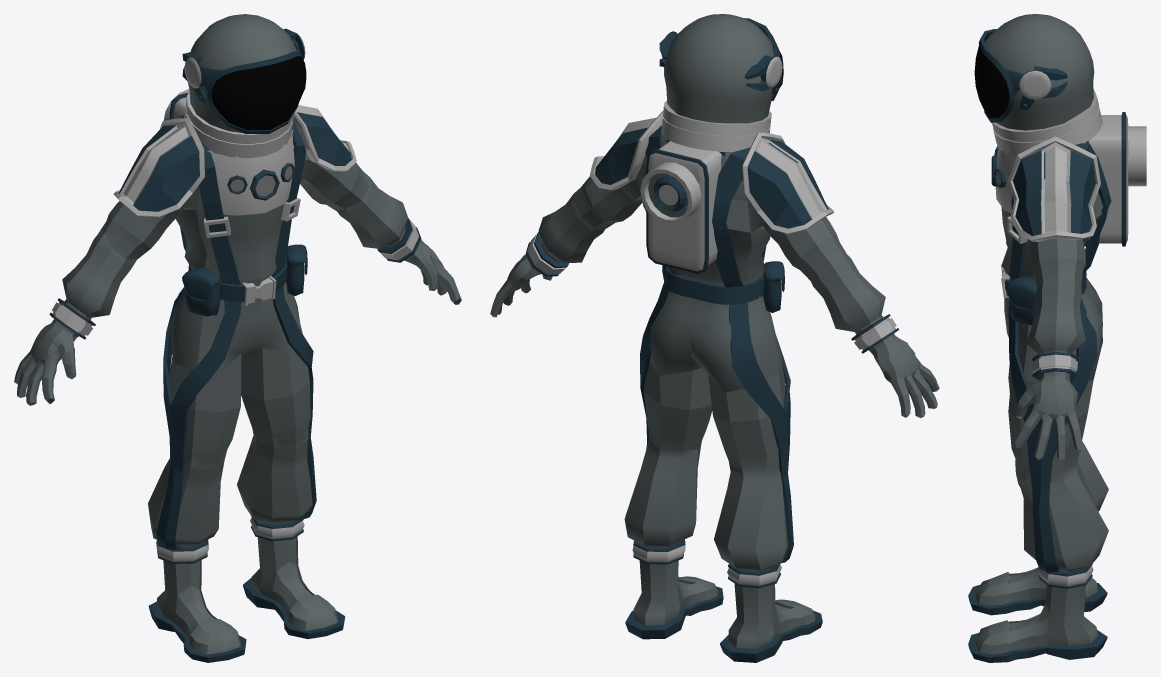
Rendered from TempAstroFirstPerson_HelmetOn.fbx.
The picture shows the model from 3 angles, left to right: view 1: azimuth 30°, elevation 25°; view 2: azimuth 150°, elevation 25°; view 3: azimuth 270°, elevation 25°; orthographic projection.
Parts seen in each view (by area): view 1: MainBody1, BodyStrap, ShoulderPad, polySurface8, MainHelmet, ChestPlate, Pouch, CollarBottom, CollarTop, polySurface9, Belt, StrapBuckle; view 2: MainBody1, MainHelmet, ShoulderPad, BodyStrap, BackpackMain, Belt, CollarBottom, polySurface16, polySurface15, CollarTop, Pouch; view 3: MainBody1, ShoulderPad, MainHelmet, BodyStrap, BackpackMain, polySurface8, CollarTop, CollarBottom, Pouch, polySurface16, polySurface28, ChestPlate (+2 smaller).
Part boxes in pixels (x1,y1,x2,y2): MainBody1: (14,153,461,662); BodyStrap: (156,115,316,549); ShoulderPad: (113,105,356,216); polySurface8: (211,56,306,130); MainHelmet: (187,14,296,133); ChestPlate: (206,129,294,215); Pouch: (182,244,307,316); CollarBottom: (184,106,292,158); CollarTop: (186,91,293,143); polySurface9: (207,51,303,134); Belt: (188,256,287,301); StrapBuckle: (204,198,300,237); MainBody1: (490,136,939,662); MainHelmet: (664,14,773,123); ShoulderPad: (590,111,833,233); BodyStrap: (640,125,793,562); BackpackMain: (646,139,725,273); Belt: (664,266,763,304); CollarBottom: (661,116,770,151); polySurface16: (640,162,701,224); polySurface15: (648,173,688,217); CollarTop: (663,101,771,134); Pouch: (662,261,784,312); MainBody1: (968,142,1108,662); ShoulderPad: (1008,136,1100,241); MainHelmet: (984,14,1094,130); BodyStrap: (1008,143,1111,572); BackpackMain: (1085,112,1128,246); polySurface8: (974,36,1009,118); CollarTop: (992,90,1098,140); CollarBottom: (993,107,1102,156); Pouch: (1006,241,1036,325); polySurface16: (1128,126,1146,186); polySurface28: (1019,70,1051,99); ChestPlate: (995,149,1016,213).
Size of the model in its own units: 7.18 by 9.61 by 2.56.
